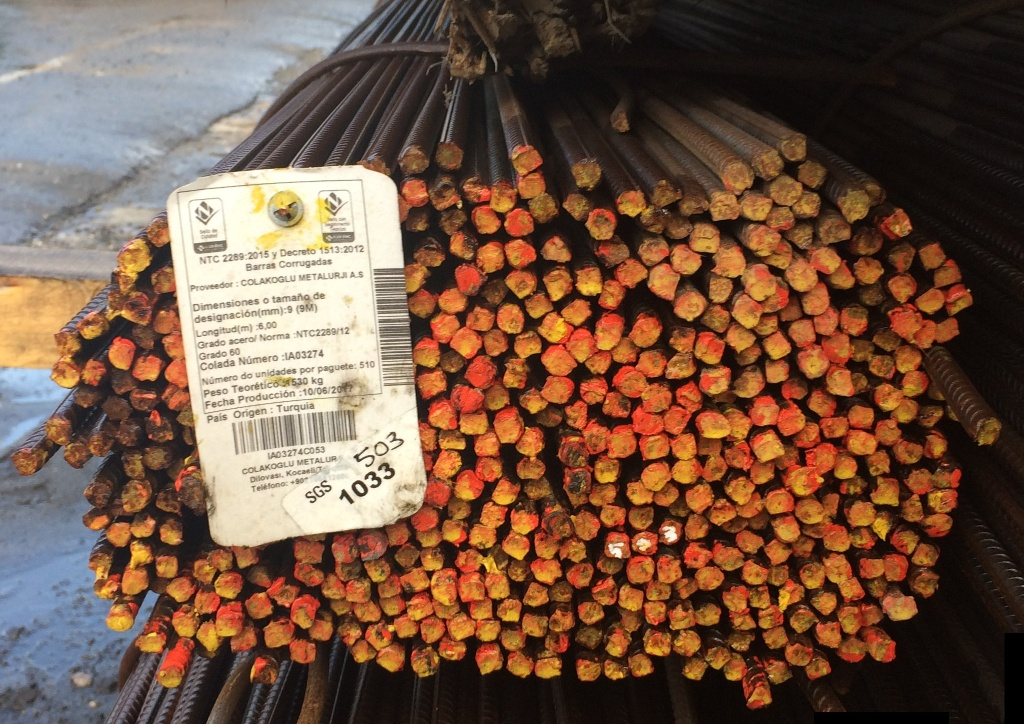dipstick: (174, 471, 210, 514), (138, 410, 180, 446), (880, 587, 921, 623), (607, 364, 649, 399), (876, 204, 915, 241), (425, 562, 460, 603), (669, 286, 710, 321), (810, 212, 852, 246), (564, 325, 600, 364), (627, 308, 661, 349), (646, 262, 680, 302), (745, 428, 786, 461), (257, 612, 294, 648), (570, 259, 604, 298), (588, 236, 629, 268), (593, 311, 624, 353), (584, 207, 619, 244), (114, 237, 152, 271), (543, 263, 574, 304), (742, 264, 777, 300), (397, 174, 431, 211), (721, 159, 755, 196), (695, 330, 728, 368), (697, 365, 735, 398), (837, 187, 870, 225), (524, 192, 564, 223), (463, 352, 497, 388), (536, 311, 573, 344), (712, 536, 745, 573), (492, 407, 524, 445), (541, 344, 579, 376), (118, 479, 153, 513), (694, 406, 729, 440), (794, 342, 828, 377), (817, 331, 852, 365), (454, 263, 490, 296), (650, 546, 683, 582), (711, 243, 744, 279), (921, 430, 957, 463), (606, 422, 638, 459), (818, 550, 855, 582), (869, 381, 906, 413), (8, 445, 46, 476), (449, 383, 488, 413), (721, 320, 760, 350), (539, 233, 573, 267), (784, 257, 818, 291), (886, 302, 920, 336), (427, 311, 462, 344), (433, 140, 468, 173), (429, 175, 461, 211), (475, 240, 507, 276), (485, 177, 517, 213), (511, 143, 548, 174), (500, 208, 538, 238), (776, 401, 805, 440), (784, 465, 823, 494), (42, 413, 76, 446), (169, 605, 202, 639), (426, 399, 460, 432), (406, 335, 439, 369), (451, 325, 484, 359), (491, 302, 525, 335), (458, 171, 492, 204), (571, 158, 604, 192), (664, 321, 697, 355), (61, 433, 93, 468), (354, 529, 389, 561), (410, 641, 442, 676), (556, 432, 591, 464), (668, 243, 703, 275), (732, 365, 764, 400), (144, 213, 175, 249), (214, 601, 245, 637), (472, 640, 503, 676), (532, 649, 565, 682), (563, 558, 596, 591), (630, 403, 664, 435), (793, 493, 827, 525), (683, 482, 717, 514), (837, 303, 869, 337), (529, 529, 564, 560), (635, 235, 670, 266), (633, 347, 668, 378), (529, 556, 565, 586), (722, 402, 752, 438), (731, 291, 761, 327), (501, 354, 530, 391), (126, 387, 164, 415), (119, 294, 152, 326), (129, 349, 161, 382), (500, 529, 533, 561), (398, 261, 430, 294), (504, 237, 537, 269), (593, 278, 626, 310), (708, 190, 741, 222), (453, 467, 484, 501), (402, 287, 436, 318), (674, 380, 705, 414), (766, 513, 800, 544), (762, 238, 796, 269), (287, 538, 326, 565), (430, 450, 465, 480), (540, 375, 575, 405), (559, 192, 594, 222), (661, 350, 696, 380), (775, 577, 805, 612), (826, 365, 856, 400), (192, 583, 221, 619), (521, 290, 557, 319), (606, 618, 633, 656), (163, 572, 195, 604), (664, 600, 696, 632), (831, 604, 863, 636), (807, 387, 839, 419), (689, 222, 720, 255), (800, 283, 831, 316), (783, 221, 816, 252), (865, 634, 898, 665), (149, 305, 183, 335), (504, 646, 534, 680), (788, 319, 822, 349), (702, 301, 732, 335), (890, 342, 924, 372), (886, 272, 920, 302), (918, 512, 957, 538), (153, 481, 181, 517), (394, 566, 431, 593), (455, 571, 487, 602), (643, 625, 674, 657), (808, 588, 839, 620), (763, 484, 794, 516), (847, 401, 878, 433), (889, 525, 921, 556), (869, 476, 900, 508), (150, 551, 183, 581), (377, 642, 407, 675), (446, 231, 479, 261), (615, 188, 648, 218), (661, 402, 691, 435), (814, 618, 844, 651), (724, 474, 757, 504), (748, 395, 778, 428), (745, 225, 778, 255), (852, 225, 885, 255), (513, 171, 551, 197), (561, 465, 595, 494), (396, 144, 430, 173), (803, 444, 837, 473), (777, 373, 811, 402), (872, 417, 906, 446), (613, 260, 648, 288), (670, 457, 705, 485), (835, 635, 870, 663), (289, 560, 325, 587), (516, 386, 552, 413), (761, 331, 798, 357), (77, 309, 108, 340), (464, 301, 495, 332), (471, 204, 502, 235), (913, 541, 944, 572), (118, 449, 148, 481), (330, 534, 362, 564), (584, 414, 608, 454), (480, 276, 510, 308), (722, 441, 754, 471), (852, 253, 884, 283), (80, 479, 113, 508), (288, 637, 321, 666), (412, 239, 445, 268), (438, 206, 471, 235), (558, 296, 591, 325), (738, 191, 771, 220), (577, 375, 606, 408), (843, 498, 876, 527), (649, 179, 683, 207), (769, 175, 803, 203), (883, 550, 911, 584), (902, 467, 936, 495), (133, 627, 168, 654), (635, 431, 670, 458), (702, 499, 737, 526), (213, 569, 243, 600), (305, 615, 336, 645), (518, 608, 549, 638), (575, 654, 605, 685), (640, 460, 670, 491), (893, 435, 923, 466), (50, 326, 82, 355), (754, 149, 783, 181), (641, 383, 673, 412), (945, 283, 974, 315), (914, 287, 946, 316), (448, 613, 481, 641), (639, 207, 672, 235), (693, 564, 726, 592), (756, 600, 784, 633), (107, 335, 134, 369), (506, 271, 540, 298), (925, 488, 959, 515), (784, 638, 814, 668), (735, 526, 765, 556), (787, 603, 817, 633), (792, 419, 822, 449), (150, 263, 179, 294), (157, 519, 188, 548), (205, 544, 236, 573), (269, 576, 300, 605), (439, 518, 470, 547), (591, 454, 622, 483), (720, 652, 749, 683), (761, 537, 792, 566), (699, 455, 728, 486), (829, 261, 860, 290), (81, 430, 113, 458), (197, 620, 225, 652), (251, 656, 283, 684), (415, 369, 447, 397), (479, 327, 511, 355), (625, 476, 657, 504), (733, 490, 765, 518), (512, 329, 545, 356), (898, 369, 931, 396), (870, 325, 903, 352), (574, 507, 600, 541), (50, 358, 80, 387), (440, 635, 469, 665), (421, 541, 450, 571), (423, 474, 453, 503), (467, 519, 497, 548), (674, 627, 703, 657), (764, 654, 793, 684), (683, 540, 713, 569), (746, 584, 775, 614), (509, 506, 540, 534), (623, 556, 654, 584), (740, 556, 768, 587), (760, 623, 791, 651), (799, 559, 827, 590), (916, 405, 947, 433), (390, 544, 422, 571), (572, 623, 604, 650), (591, 573, 618, 605), (617, 582, 644, 614), (748, 458, 780, 485), (776, 442, 803, 474), (810, 307, 842, 334), (915, 568, 942, 600), (144, 446, 177, 472), (541, 511, 574, 537), (707, 272, 733, 305), (106, 606, 135, 635), (778, 134, 807, 163), (793, 191, 822, 220), (124, 537, 152, 567), (156, 660, 186, 688), (335, 618, 365, 646), (516, 427, 546, 455), (598, 502, 626, 532), (437, 346, 467, 374), (437, 285, 467, 313), (645, 576, 675, 604), (866, 353, 896, 381), (930, 260, 965, 284), (863, 176, 891, 206), (127, 323, 158, 350), (115, 421, 146, 448), (291, 596, 318, 627), (604, 390, 631, 421), (704, 642, 731, 673), (104, 367, 136, 393), (90, 573, 122, 599), (453, 548, 485, 574), (472, 454, 504, 480), (667, 433, 699, 459), (847, 522, 873, 554), (810, 246, 842, 272), (725, 606, 758, 631), (120, 564, 148, 593), (350, 637, 378, 666), (412, 502, 440, 531), (496, 594, 524, 623), (479, 499, 507, 528), (799, 159, 827, 188), (612, 336, 641, 364), (721, 583, 750, 611), (823, 523, 851, 552), (933, 316, 961, 345), (918, 241, 946, 270), (244, 590, 274, 617), (352, 597, 382, 624), (657, 516, 684, 546), (887, 244, 917, 271), (102, 394, 133, 420), (909, 318, 935, 349), (676, 192, 708, 217), (522, 476, 555, 500), (407, 591, 435, 619), (472, 615, 500, 643), (492, 476, 520, 504), (386, 520, 415, 547), (626, 503, 655, 530), (514, 455, 548, 478), (364, 556, 394, 582), (419, 616, 449, 642), (891, 399, 921, 425), (604, 529, 629, 560), (932, 463, 963, 488), (166, 358, 190, 390), (458, 412, 490, 436), (228, 626, 256, 653), (483, 544, 511, 571), (560, 535, 588, 562), (791, 532, 818, 560), (844, 428, 872, 455), (80, 358, 106, 387), (506, 557, 535, 583), (684, 512, 710, 541), (899, 494, 925, 523), (192, 558, 217, 588), (576, 597, 606, 622), (81, 507, 113, 530), (564, 398, 587, 430), (650, 483, 682, 506), (799, 519, 834, 540), (321, 571, 348, 598), (364, 618, 391, 645), (867, 451, 894, 478), (485, 571, 511, 599), (500, 623, 528, 649), (521, 580, 549, 606), (858, 554, 886, 580), (871, 511, 899, 537), (616, 603, 641, 632), (679, 656, 708, 681), (837, 577, 866, 602), (234, 545, 264, 569), (161, 330, 185, 360), (544, 629, 575, 652), (723, 628, 754, 651), (106, 523, 132, 550), (596, 549, 623, 575), (405, 206, 431, 233), (631, 530, 658, 556), (748, 680, 774, 707), (642, 599, 668, 626), (131, 510, 156, 538), (345, 578, 373, 603), (591, 481, 619, 506), (847, 335, 871, 364), (72, 385, 103, 407), (859, 285, 890, 307), (549, 580, 575, 606), (585, 349, 611, 375), (762, 358, 788, 384), (244, 562, 271, 587), (603, 654, 630, 679), (860, 602, 885, 629), (85, 549, 113, 573), (335, 558, 363, 582), (380, 593, 408, 617), (549, 606, 577, 630), (805, 657, 833, 681), (433, 597, 464, 618), (473, 431, 499, 456), (667, 215, 693, 240), (775, 297, 801, 322), (391, 613, 418, 637), (446, 496, 473, 520), (766, 206, 794, 229), (376, 574, 402, 598), (418, 523, 444, 547), (629, 651, 653, 677), (822, 415, 849, 438), (839, 477, 867, 499), (535, 406, 564, 427), (831, 454, 855, 479), (867, 578, 891, 603), (674, 576, 700, 599), (438, 430, 467, 450), (695, 437, 722, 458), (667, 496, 691, 519), (768, 563, 791, 587), (755, 315, 780, 337), (468, 600, 495, 620), (736, 344, 764, 363), (330, 593, 352, 617), (848, 368, 869, 393), (542, 494, 568, 514), (819, 490, 839, 516), (721, 515, 748, 534), (743, 511, 765, 529)
